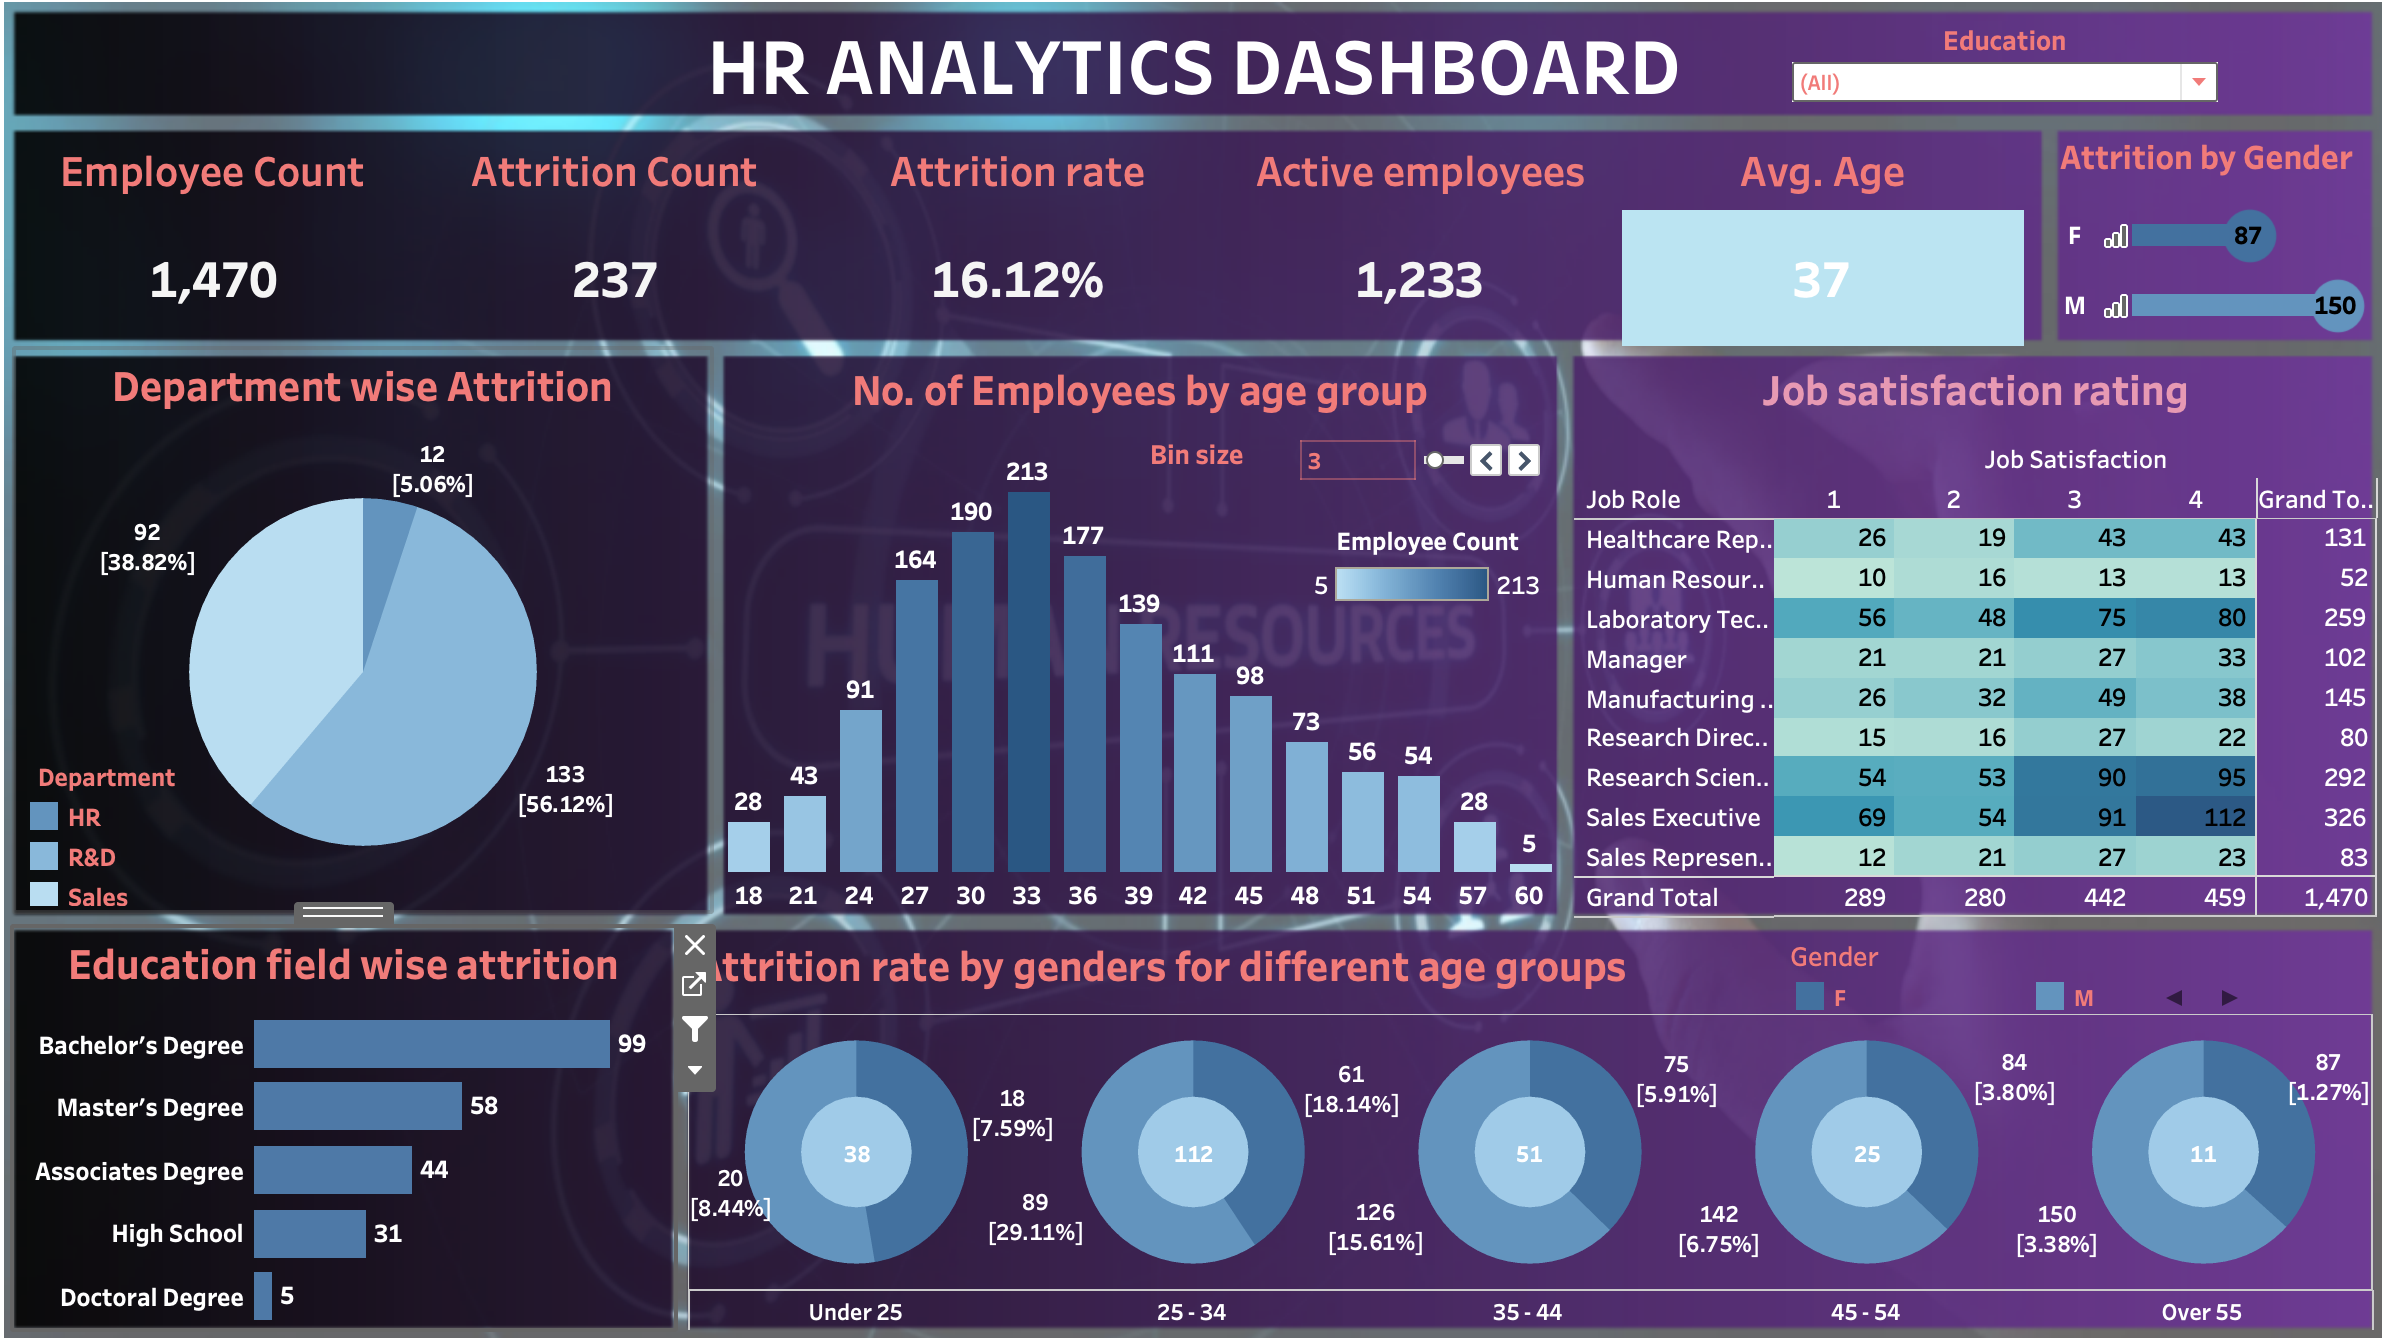

This screenshot's page, from the dashboard's own definition file:
{"tool":"tableau","page":{"name":"HR Analytics Dashboard","canvas":[1000,1000],"units":"permille","ordinal":0},"visuals":[{"type":"image","param":"/Users/rahulpreet7/Desktop/Projects/Tableau_HRProject/background.png","box":[6.6,11.5,986.8,977]},{"type":"text","box":[14.1,24.5,972.7,74.8]},{"type":"filter","title":"Department wise Attrition","param":"[federated.1nkc49r1ics98y1fadm8p0vq691v].[none:Education:nk]","box":[744.4,31.7,180.5,60.4]},{"type":"worksheet","title":"Attrition by Gender","mark":"Automatic","rows":["Gender"],"cols":["Calculation_259801446634491904","Calculation_259801446634491904"],"box":[854.2,106.5,132.6,154]},{"type":"worksheet","title":"KPI","mark":"Automatic","box":[13,109.4,829.1,155.4]},{"type":"worksheet","title":"Department wise Attrition","mark":"Pie","box":[14.9,267.6,286.2,402.9]},{"type":"worksheet","title":"No. of Employees by age group","mark":"Automatic","rows":["Employee Count"],"cols":["Age (bin)"],"box":[306,270.5,344.9,402.9]},{"type":"worksheet","title":"Job satisfaction rating","mark":"Square","rows":["Job Role"],"cols":["Job Satisfaction"],"box":[657.1,270.5,331.4,405.8]},{"type":"parameter","param":"[Parameters].[Parameter 1]","box":[482.3,328.1,163.2,46]},{"type":"legend","title":"No. of Employees by age group","param":"[federated.1nkc49r1ics98y1fadm8p0vq691v].[sum:Employee Count:qk]","box":[546.6,392.8,100.6,56.1]},{"type":"legend","title":"Department wise Attrition","param":"[federated.1nkc49r1ics98y1fadm8p0vq691v].[none:Department:nk]","box":[18.2,562.6,68.7,105]},{"type":"worksheet","title":"Education field wise attrition","mark":"Automatic","rows":["Education"],"cols":["Calculation_259801446634491904"],"box":[14,683.5,272.1,287.8]},{"type":"worksheet","title":"Attrition rate by genders for different age groups","mark":"Pie","rows":["Calculation_259801446745464840","Calculation_259801446745448455"],"cols":["CF_age band"],"box":[291.8,684.9,695,289.2]},{"type":"legend","title":"Attrition rate by genders for different age groups","param":"[federated.1nkc49r1ics98y1fadm8p0vq691v].[none:Gender:nk]","box":[746.1,690.6,192.9,57.6]}]}

Visuals, with their boxes on the dashboard's canvas, which has no fixed pixel size, in thousandths of its width and height (x1, y1, x2, y2). These are canvas units, not pixel positions in the 2382x1342 screenshot, which may show the page scaled, cropped or inside an application window:
image: 7 12 993 988
text: 14 24 987 99
"Department wise Attrition" filter: 744 32 925 92
"Attrition by Gender" worksheet: 854 106 987 260
"KPI" worksheet: 13 109 842 265
"Department wise Attrition" worksheet (Pie marks): 15 268 301 670
"No. of Employees by age group" worksheet: 306 270 651 673
"Job satisfaction rating" worksheet (Square marks): 657 270 988 676
parameter: 482 328 646 374
"No. of Employees by age group" legend: 547 393 647 449
"Department wise Attrition" legend: 18 563 87 668
"Education field wise attrition" worksheet: 14 684 286 971
"Attrition rate by genders for different age groups" worksheet (Pie marks): 292 685 987 974
"Attrition rate by genders for different age groups" legend: 746 691 939 748
